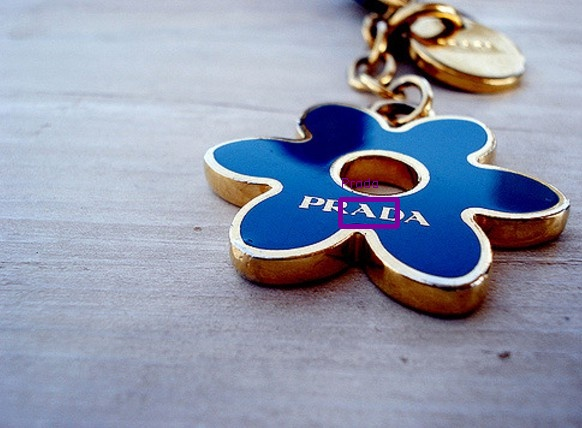Prada: (299, 194, 431, 232)
